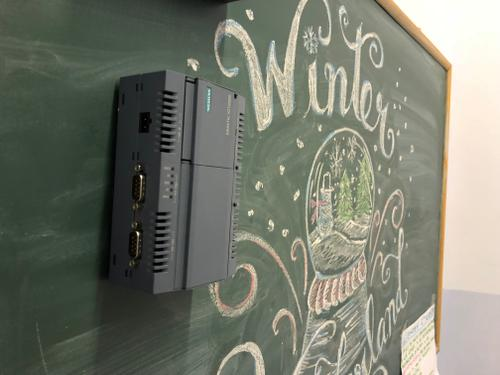device: (109, 70, 246, 295)
